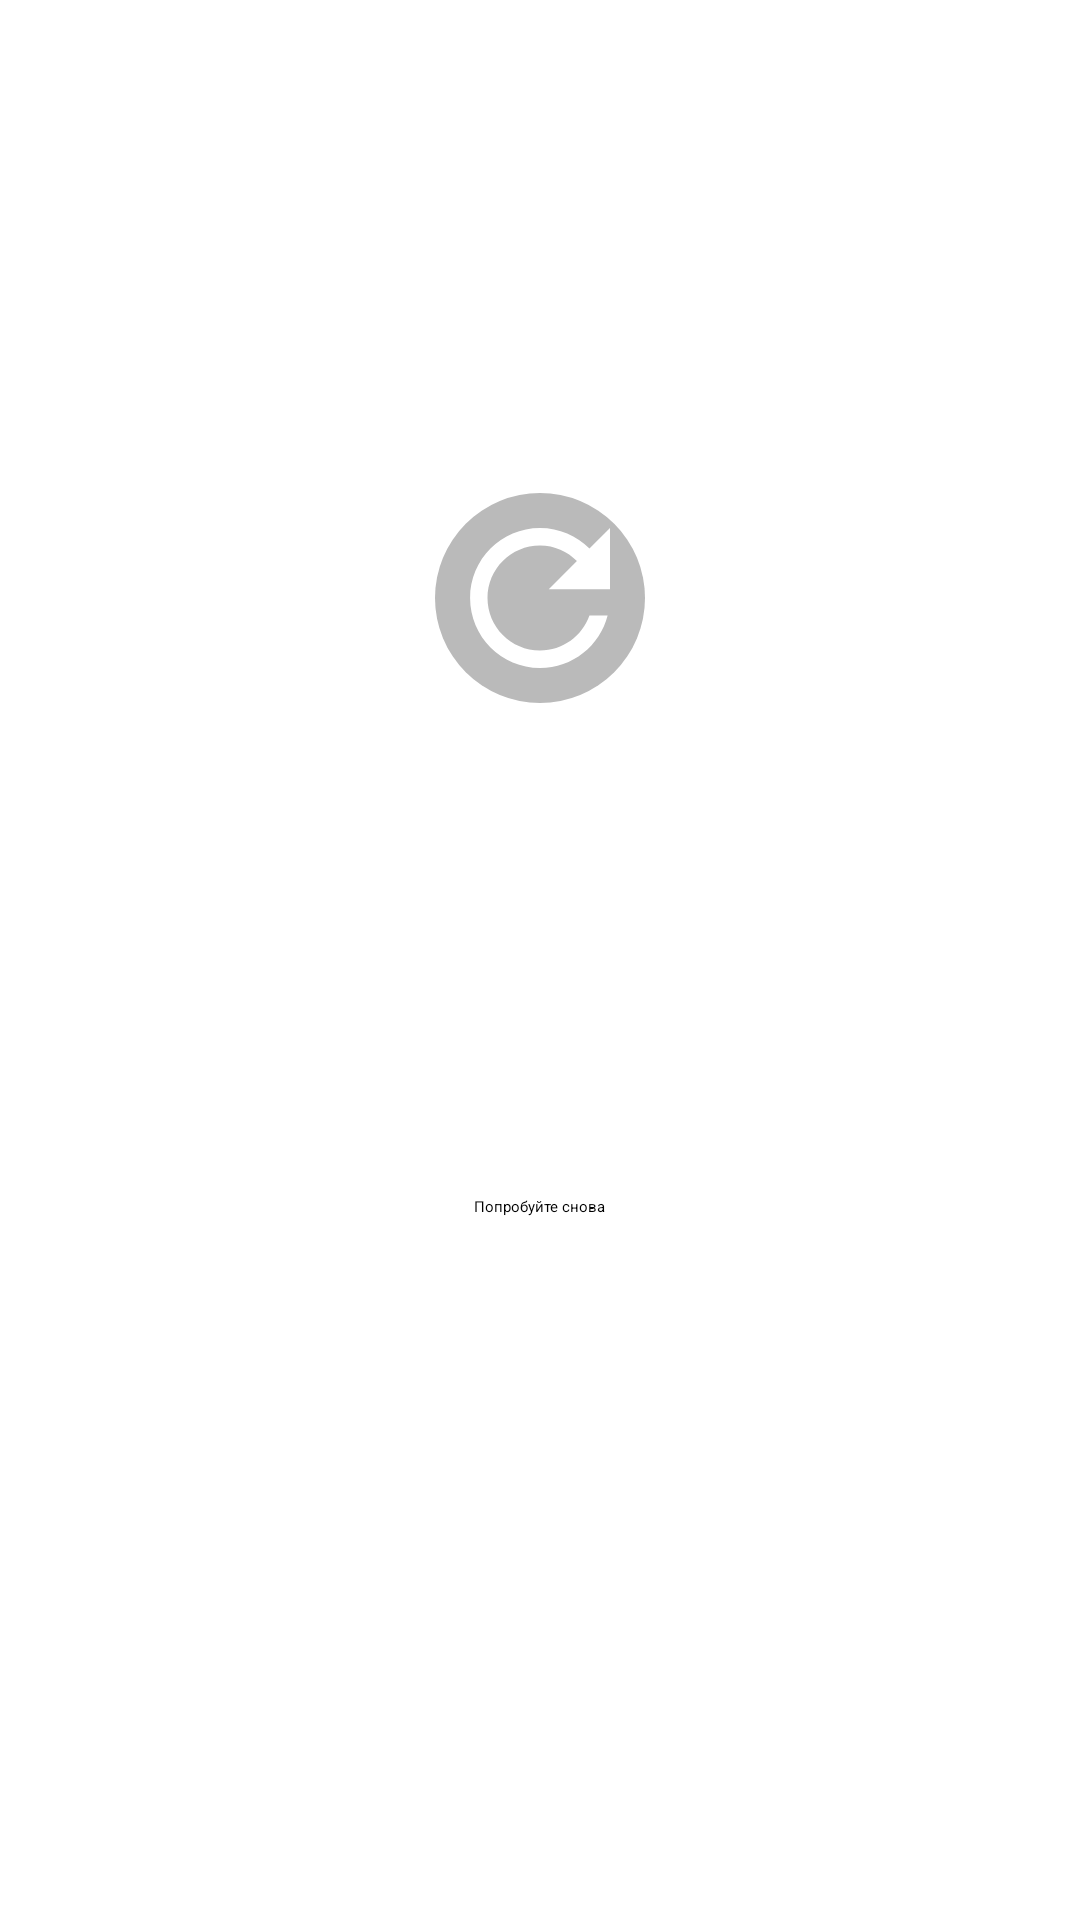

Screen size 1080×1920. Icon name, then its center in pixels as (x,y):
Попробуйте снова: (540,598)
